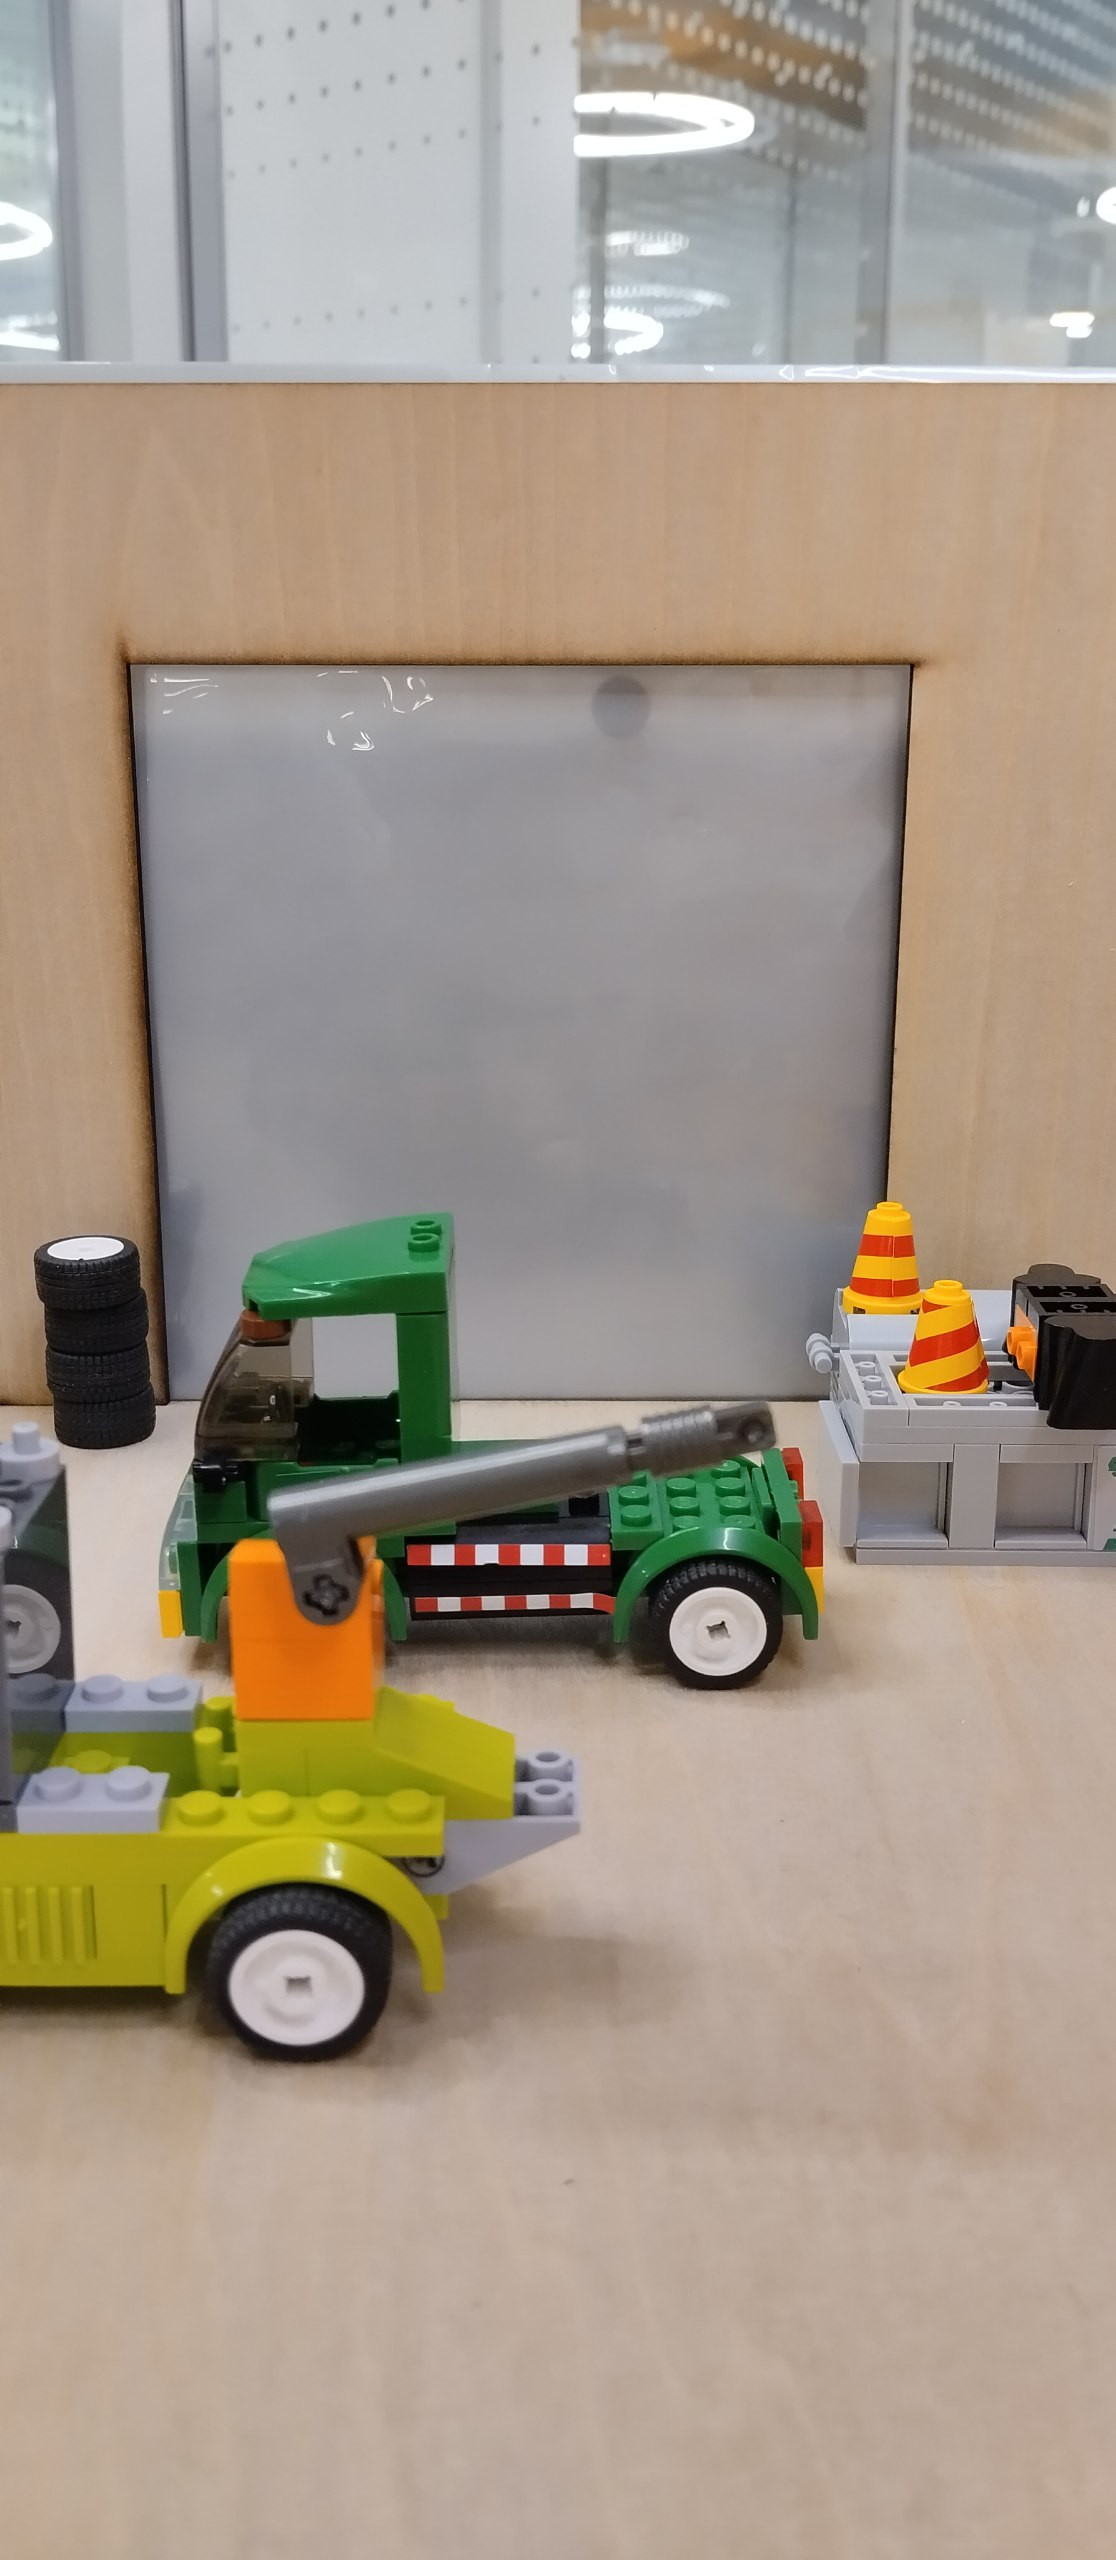Cone: (897, 1278, 990, 1393), (844, 1203, 923, 1313)
Crane: (0, 1401, 773, 2060)
Object Black: (1008, 1262, 1116, 1425)
Truck: (158, 1210, 830, 1688)
